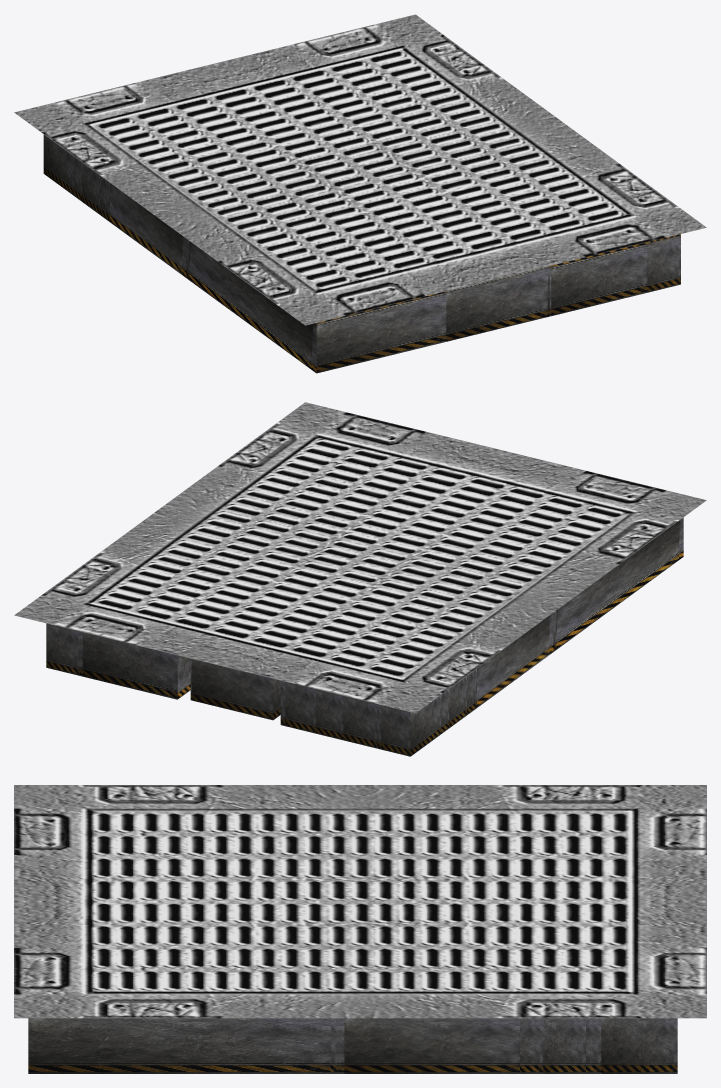
Rendered from NewOffice.fbx.
The picture shows the model from 3 angles, top to bottom: view 1: azimuth 30°, elevation 25°; view 2: azimuth 150°, elevation 25°; view 3: azimuth 270°, elevation 25°; orthographic projection. The views are drawn at different scales.
Parts seen in each view (by area): view 1: Office; view 2: Office; view 3: Office.
Boxes of the visible parts, <box> form: Office: <box>14,14,706,373</box>; Office: <box>14,402,706,756</box>; Office: <box>14,785,706,1073</box>.
Size of the model in its own units: 1379 by 185 by 1732.
Materials: 3 (3 with a texture image).
